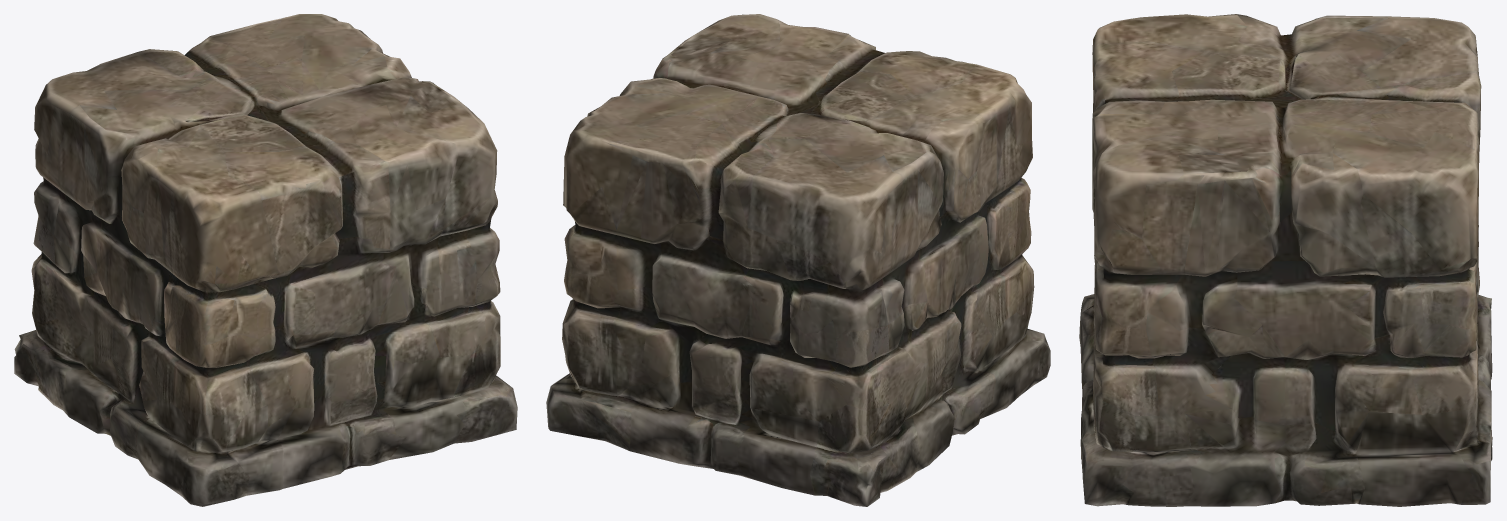
Rendered from k-corner.glb.
3 renders of one model, left to right at view 1: azimuth 30°, elevation 25°; view 2: azimuth 150°, elevation 25°; view 3: azimuth 270°, elevation 25°, orthographic. The views are drawn at different scales.
Bounding box in the file's own units: 0.9595 × 0.8446 × 0.9556.
1 material, 1 textured.
